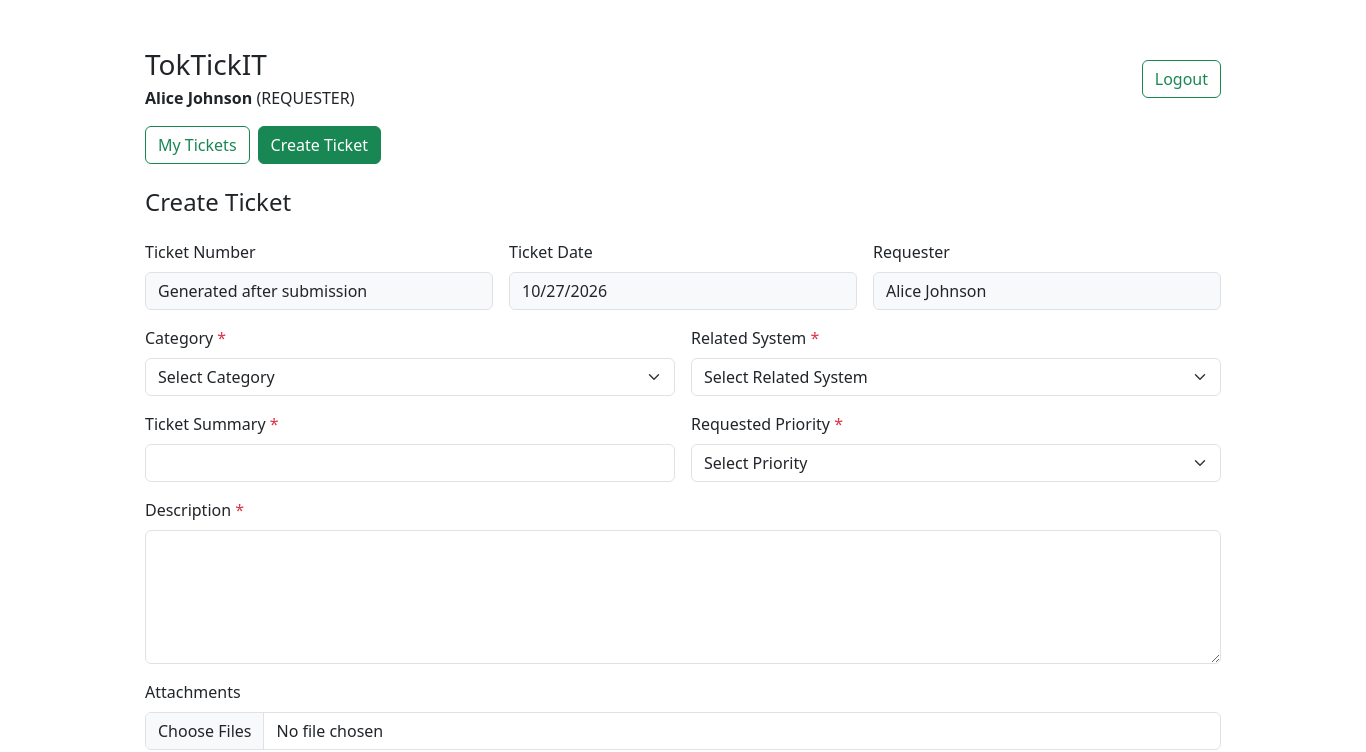
Scenario: Requester Ticket Detail › shows an error when an unauthorized Ticket cannot be loaded
Check: the heading "Create Ticket" is shown, box 145,185 -> 291,218
Click the button "My Tickets".
click(197, 145)  # box 145,126 -> 250,164
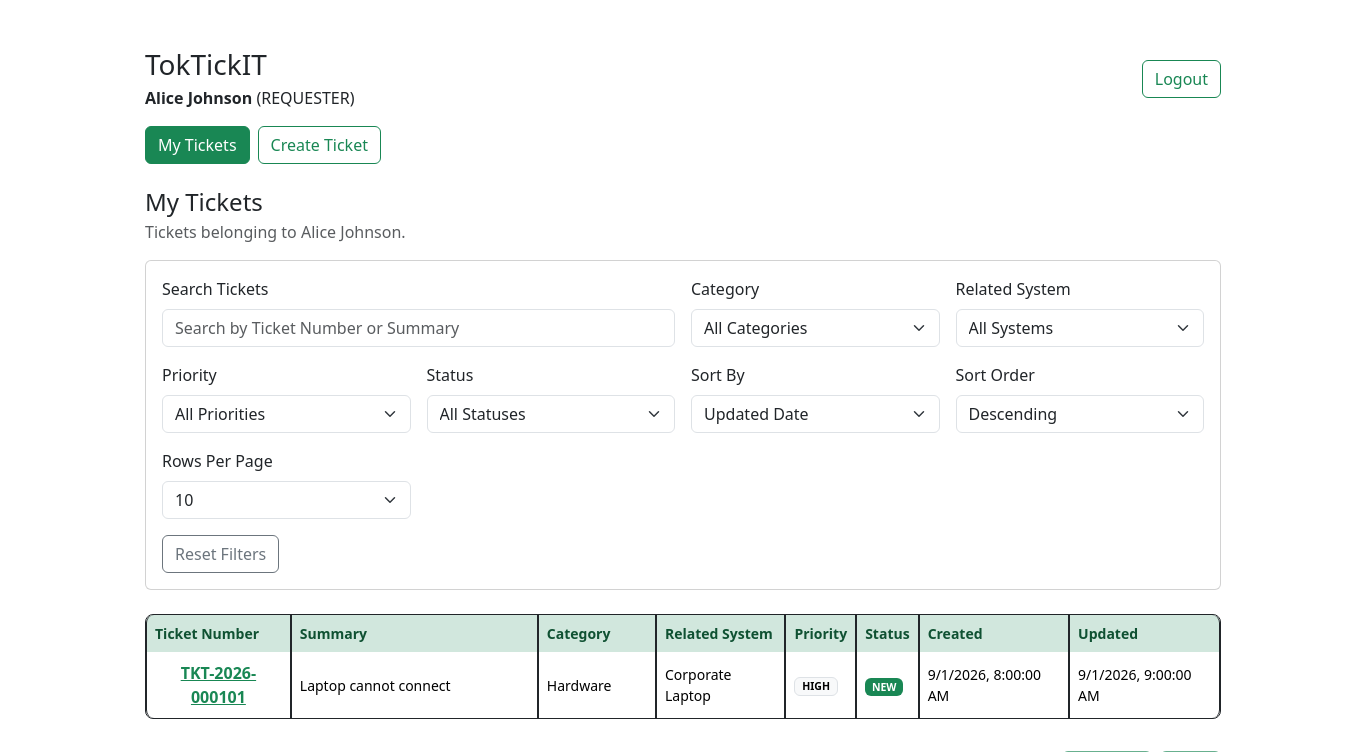
Check: the heading "My Tickets" is shown, box 145,185 -> 263,218
Click the button "TKT-2026-000101".
click(218, 685)  # box 155,660 -> 282,710
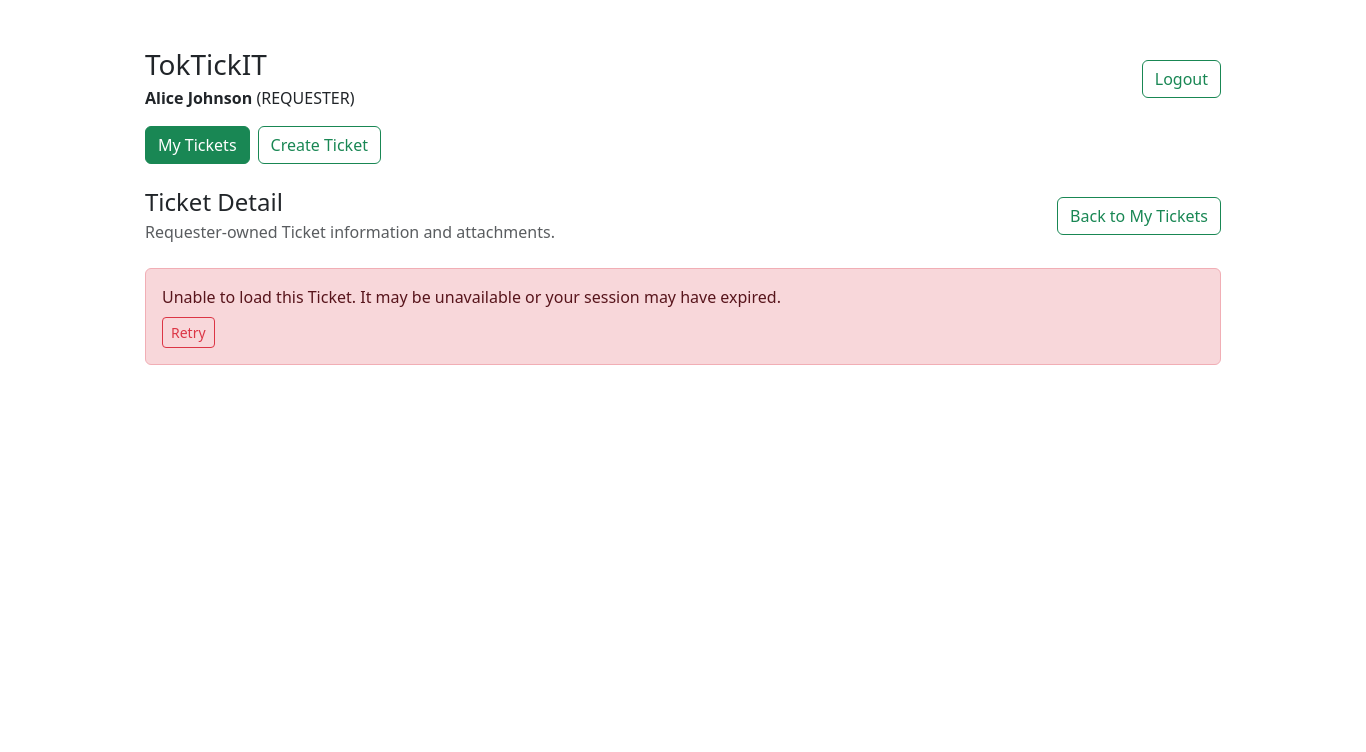
Check: the text "may be unavailable or your session may have expired" is shown, box 162,286 -> 781,308
